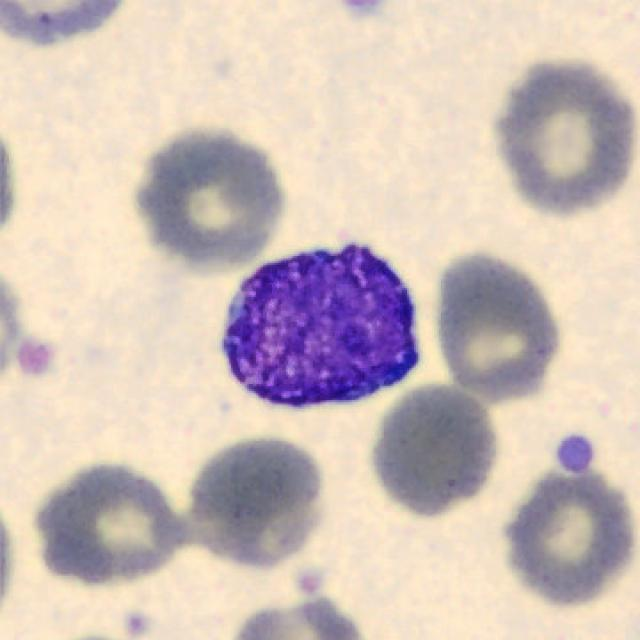Linfocito: (220, 244, 420, 407)
